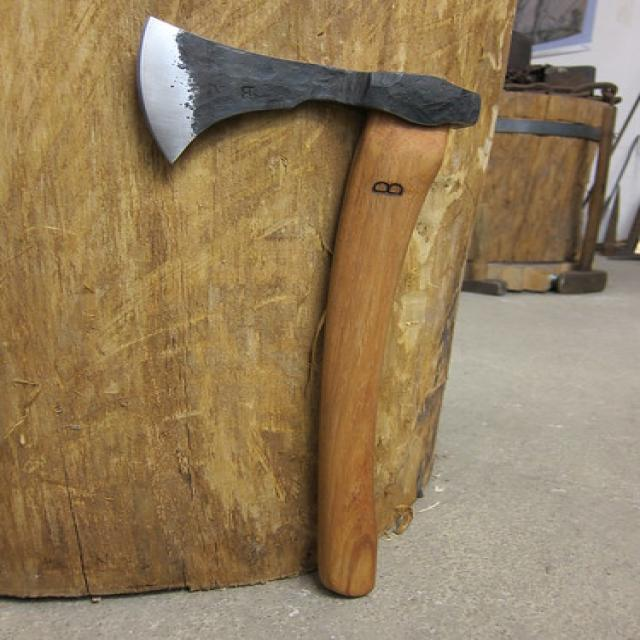Axe: (138, 18, 480, 596)
